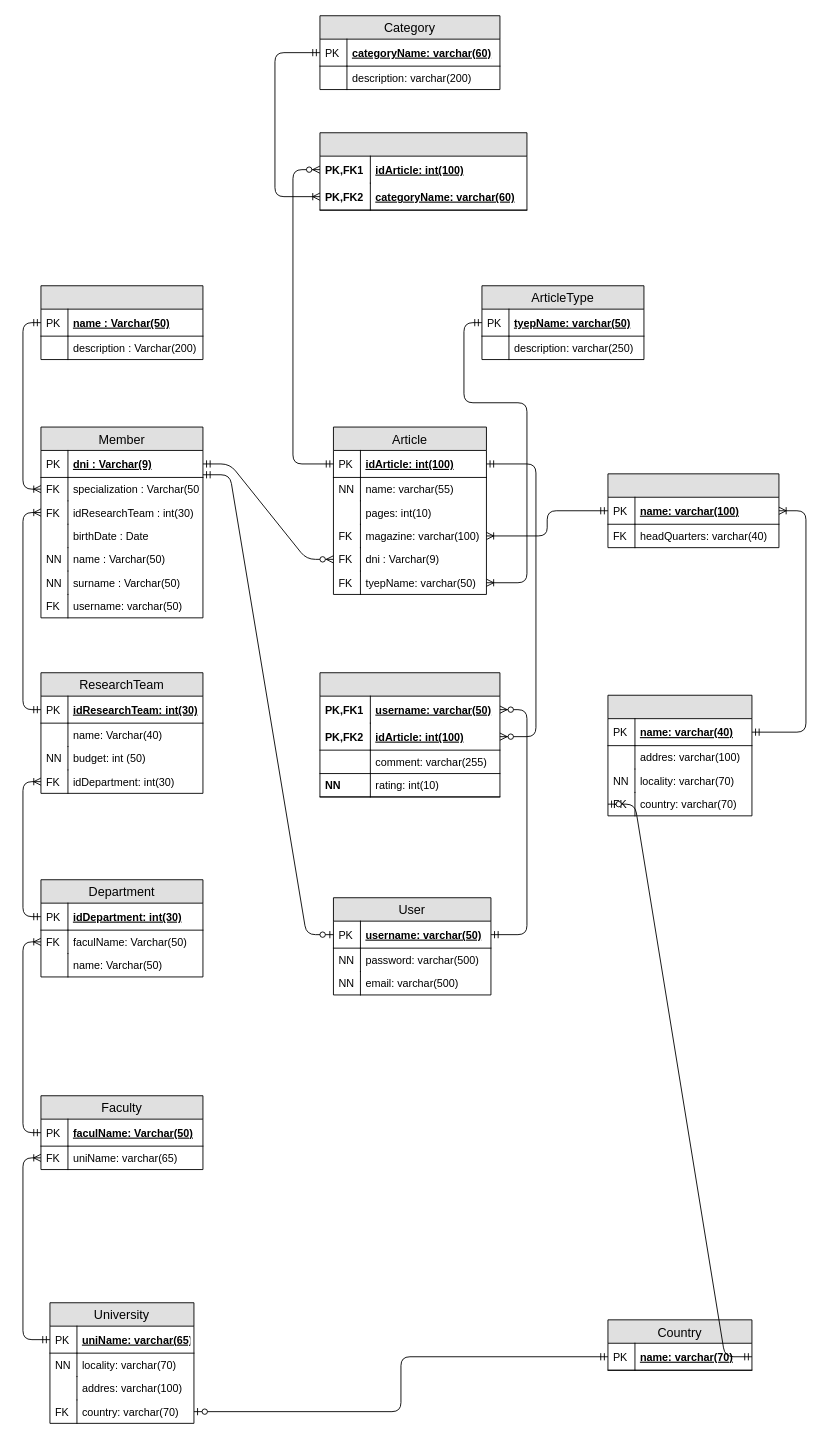
Some shapes in this 830 by 1442 pixel diagram are drawn without their labels. Each missing label, with the box of its shape:
Article_X_Category: (319, 132, 527, 210)
ArticleRatingUser: (319, 672, 500, 797)
Headquarters: (607, 694, 752, 816)
Magazine: (607, 473, 779, 548)
Specialization: (40, 285, 203, 360)
